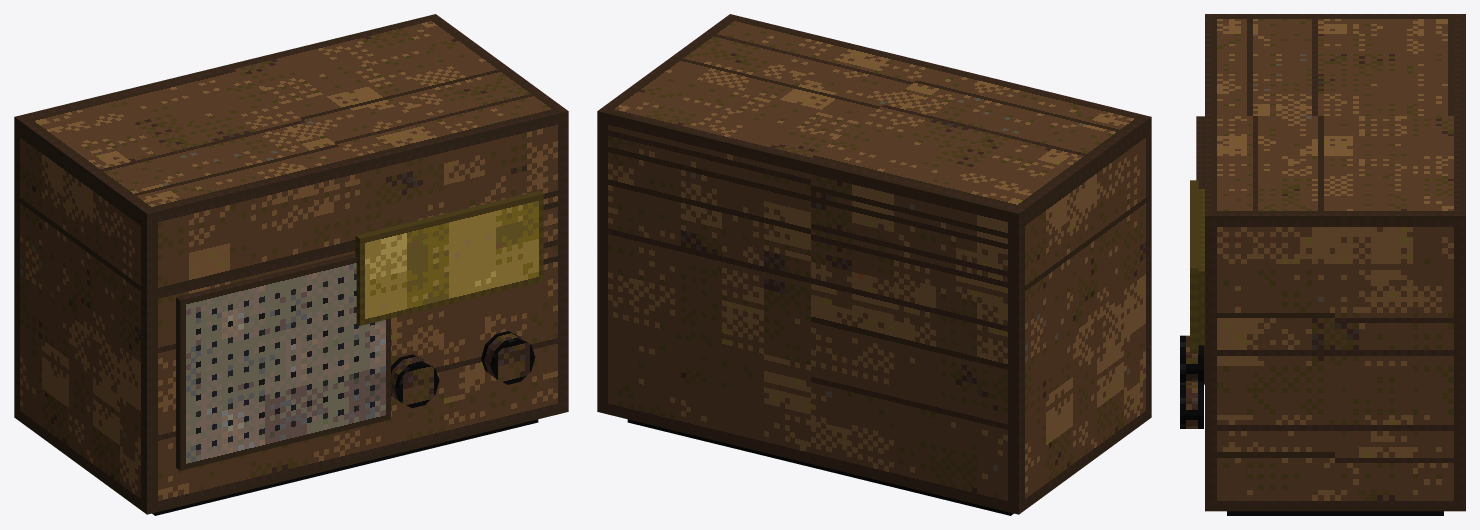
Rendered from SM_Radio_Valve_01.glb.
The picture shows the model from 3 angles, left to right: view 1: azimuth 30°, elevation 25°; view 2: azimuth 150°, elevation 25°; view 3: azimuth 270°, elevation 25°; orthographic projection.
Visible parts, largest first — view 1: SM_Radio_Valve_01; view 2: SM_Radio_Valve_01; view 3: SM_Radio_Valve_01.
Part boxes in pixels (bbox=[...]): SM_Radio_Valve_01: bbox=[14, 14, 568, 515]; SM_Radio_Valve_01: bbox=[597, 14, 1151, 515]; SM_Radio_Valve_01: bbox=[1180, 14, 1465, 515].
Size of the model in its own units: 0.44 by 0.314 by 0.263.
1 material, 1 textured.
